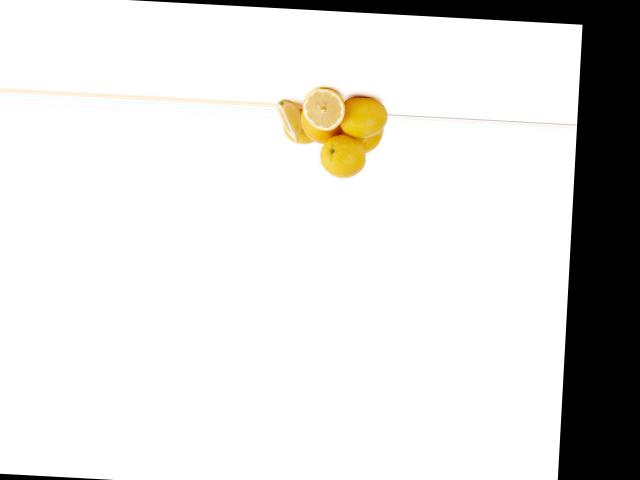lemon: (335, 92, 387, 146)
